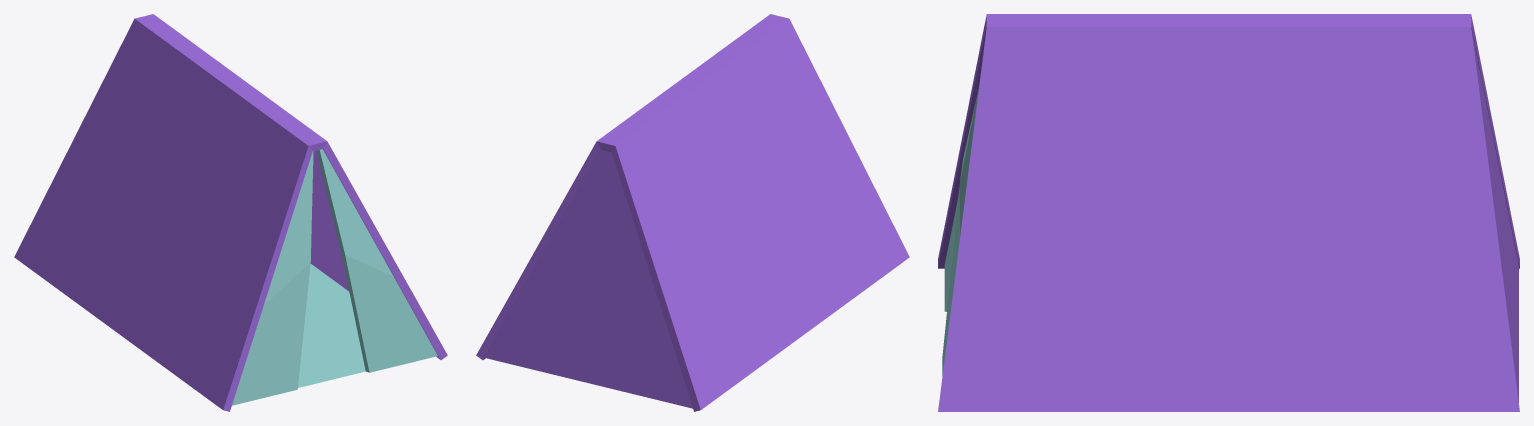
The model's file is Tent.fbx.
3 renders of one model, left to right at view 1: azimuth 30°, elevation 25°; view 2: azimuth 150°, elevation 25°; view 3: azimuth 270°, elevation 25°, orthographic. The views are drawn at different scales.
Visible parts, largest first — view 1: Roof, Cube; view 2: Roof, Cube.001; view 3: Roof, Cube.001, Cube.
Boxes of the visible parts, box(x1,y1,x2,y2) form: Roof: box(14, 14, 447, 411); Cube: box(232, 149, 437, 405); Roof: box(476, 14, 909, 411); Cube.001: box(484, 149, 692, 408); Roof: box(938, 14, 1519, 411); Cube.001: box(1472, 32, 1518, 402); Cube: box(942, 86, 979, 375).
Bounding box in the file's own units: 214 × 209 × 345.
